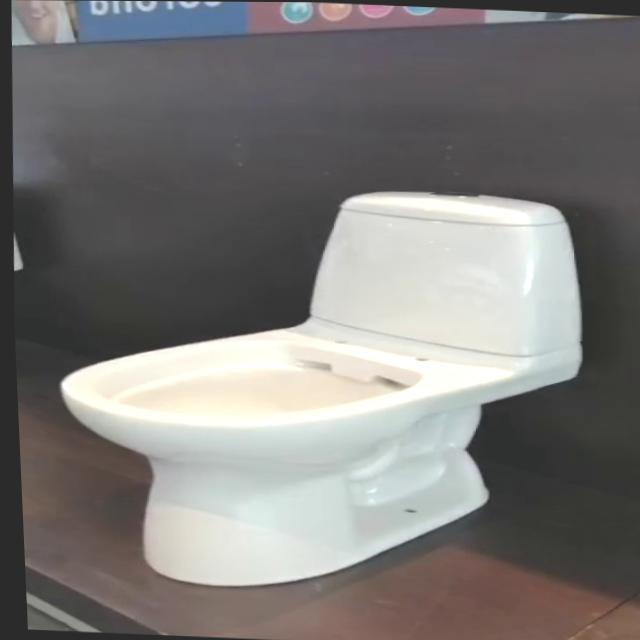toilet: (43, 173, 594, 601)
